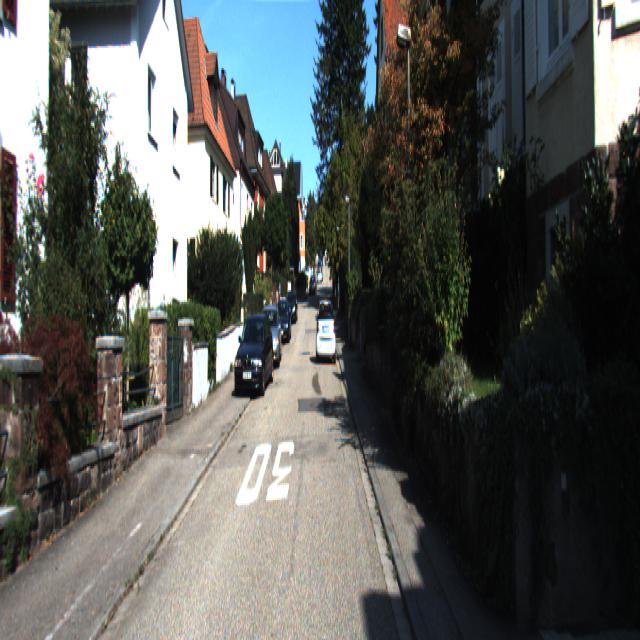Car: (233, 314, 276, 401), (258, 304, 284, 370), (316, 299, 336, 368), (274, 300, 292, 343)
